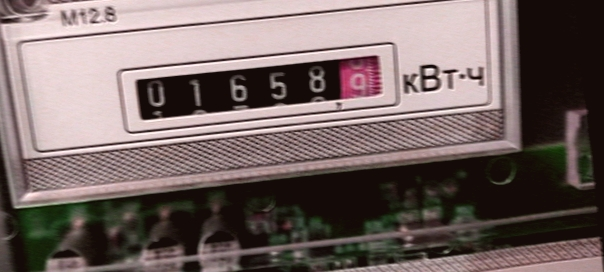0: (144, 76, 168, 110)
1: (188, 77, 204, 109)
5: (268, 69, 290, 102)
6: (228, 72, 251, 105)
8: (307, 63, 329, 96)
9: (348, 71, 368, 98)
screen: (109, 32, 407, 140)
